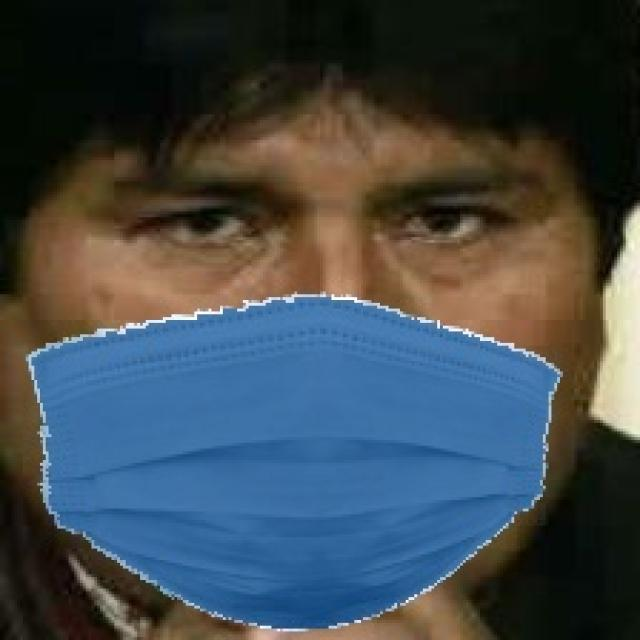mask: (1, 280, 590, 640)
